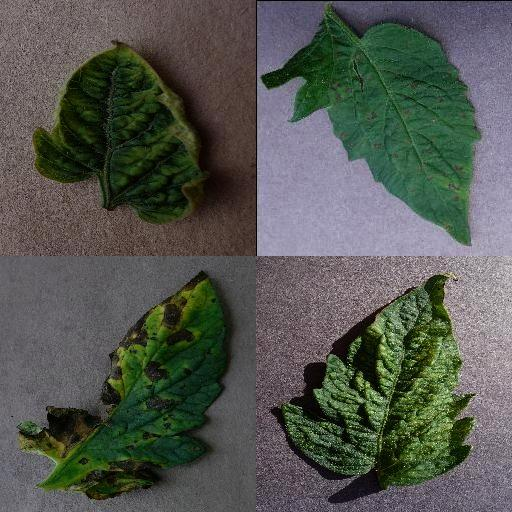Early Blight: (18, 271, 228, 501)
Septoria: (260, 22, 478, 248)
Spider Mites: (283, 273, 473, 489)
Yellow Leaf Curl Virus: (32, 39, 208, 225)
